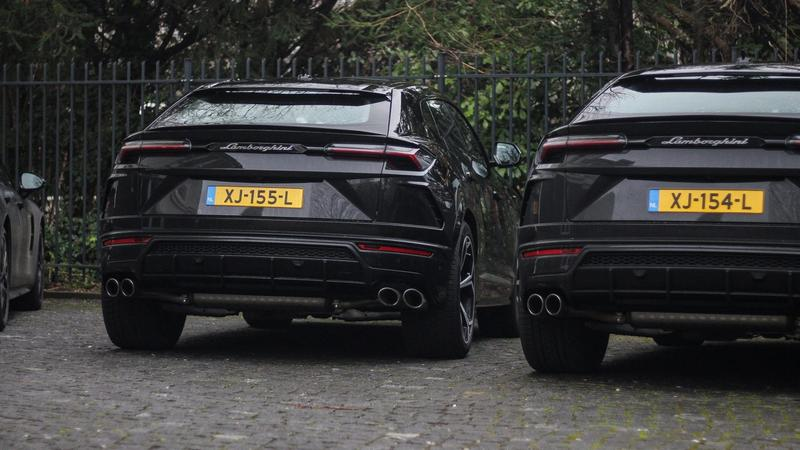kenteken: (647, 189, 763, 212), (207, 184, 304, 207)
